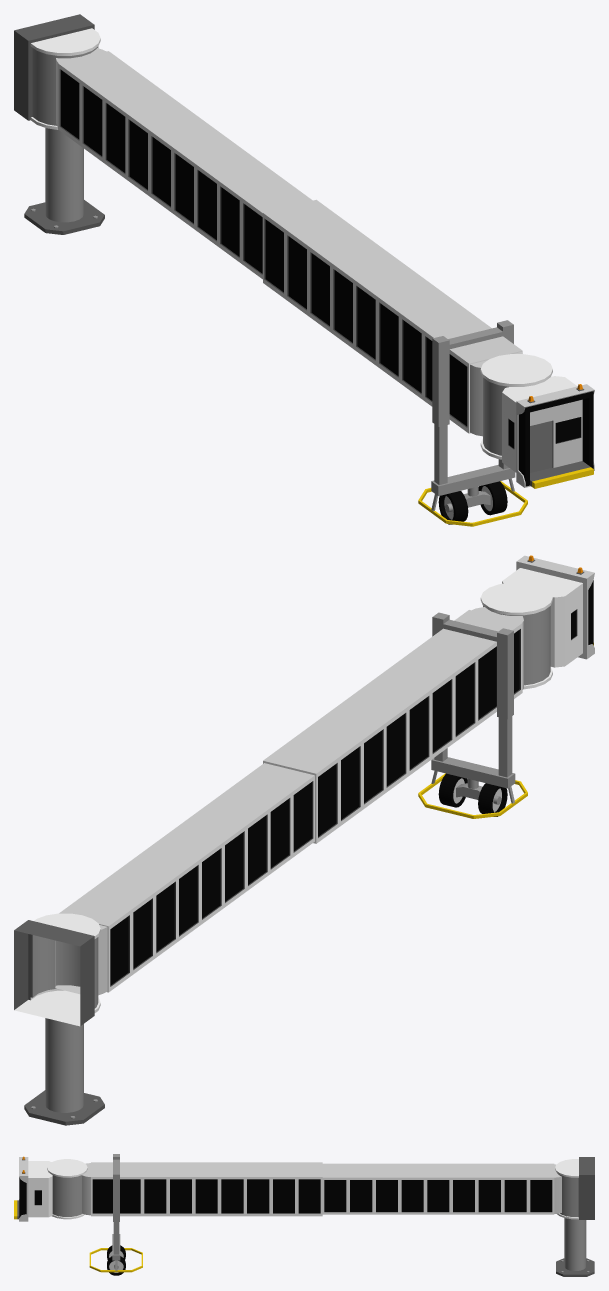
Rendered from Passenger Boarding Bridge (Open Canopy).fbx.
3 views of the same model, one above another, from view 1: azimuth 30°, elevation 25°; view 2: azimuth 150°, elevation 25°; view 3: azimuth 270°, elevation 25° (orthographic). The views are drawn at different scales.
Visible parts, largest first — view 1: PBB_Tunnel_2, PBB_Tunnel_1, PBB_Rotunda, PBB_Cabin, PBB_Elevation_System, PBB_Cabin.Canopy_Open, PBB_Wheels; view 2: PBB_Tunnel_2, PBB_Tunnel_1, PBB_Rotunda, PBB_Cabin, PBB_Elevation_System, PBB_Wheels; view 3: PBB_Tunnel_2, PBB_Tunnel_1, PBB_Rotunda, PBB_Cabin, PBB_Elevation_System, PBB_Wheels, PBB_Cabin.Canopy_Open.
Part boxes in pixels (x1,y1,x2,y2): PBB_Tunnel_2: [263, 199, 552, 459]; PBB_Tunnel_1: [56, 48, 312, 279]; PBB_Rotunda: [14, 14, 104, 234]; PBB_Cabin: [502, 376, 594, 488]; PBB_Elevation_System: [418, 424, 527, 526]; PBB_Cabin.Canopy_Open: [518, 391, 593, 486]; PBB_Wheels: [438, 481, 507, 524]; PBB_Tunnel_2: [263, 582, 552, 843]; PBB_Tunnel_1: [55, 763, 314, 995]; PBB_Rotunda: [14, 913, 104, 1125]; PBB_Cabin: [502, 555, 594, 667]; PBB_Elevation_System: [418, 716, 527, 818]; PBB_Wheels: [438, 773, 507, 816]; PBB_Tunnel_2: [47, 1154, 322, 1221]; PBB_Tunnel_1: [322, 1163, 561, 1214]; PBB_Rotunda: [555, 1157, 594, 1276]; PBB_Cabin: [14, 1156, 52, 1221]; PBB_Elevation_System: [89, 1222, 142, 1272]; PBB_Wheels: [107, 1245, 125, 1275]; PBB_Cabin.Canopy_Open: [19, 1177, 26, 1217].
Bounding box in the file's own units: 368 × 801 × 4013.
Materials: 2 (2 with a texture image).
